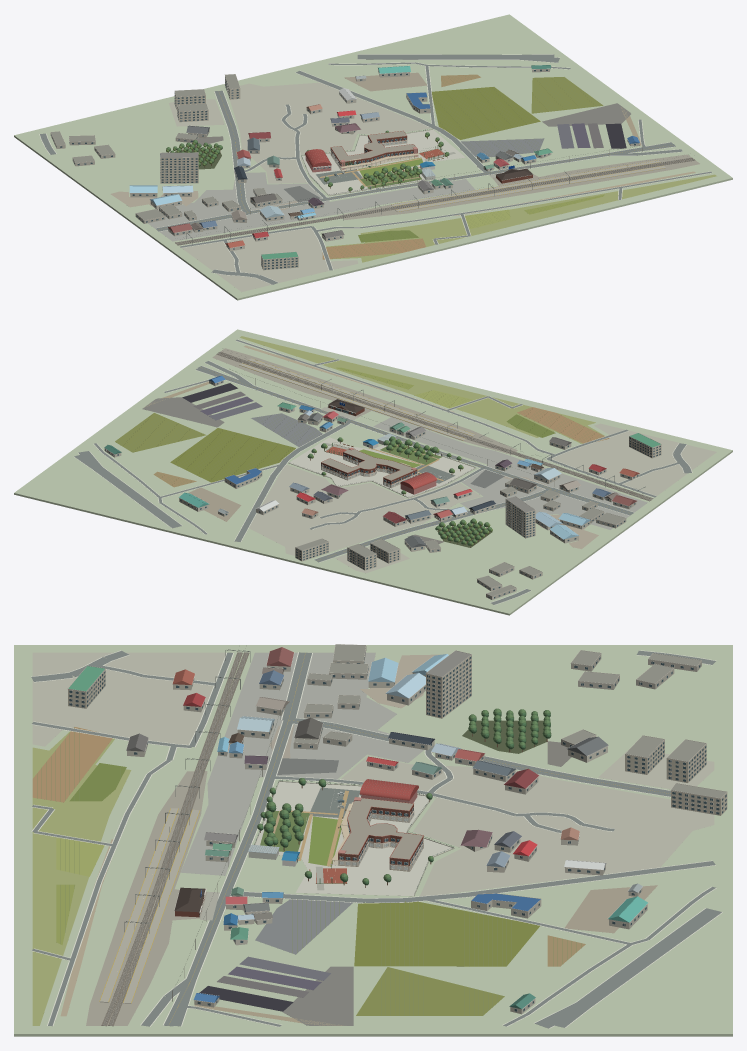
The model's file is dasi-neighborhood.glb.
3 views of the same model, one above another, from view 1: azimuth 30°, elevation 25°; view 2: azimuth 150°, elevation 25°; view 3: azimuth 270°, elevation 25° (orthographic). The views are drawn at different scales.
Visible parts, largest first — view 1: ground_base, parcel_osm_963585648, parcel_osm_963585645, parcel_osm_963585647, parcel_trace_east-field-central, parcel_osm_963585608, parcel_osm_1147618307, ground_floor_campus, parcel_trace_east-field-northeast, parcel_trace_WS06, parcel_trace_east-farm-hardstand, parcel_trace_east-field-covered-rows (+10 smaller); view 2: ground_base, parcel_osm_963585648, parcel_osm_963585647, parcel_osm_963585645, parcel_trace_east-field-central, parcel_osm_963585608, parcel_osm_1147618307, ground_floor_campus, parcel_trace_east-field-northeast, parcel_trace_WS06, parcel_trace_east-field-covered-rows, parcel_trace_east-farm-hardstand (+9 smaller); view 3: ground_base, parcel_osm_963585648, parcel_osm_963585645, parcel_osm_963585647, parcel_trace_east-field-central, parcel_osm_963585608, parcel_osm_1147618307, ground_floor_campus, parcel_trace_east-field-northeast, parcel_trace_WS06, parcel_trace_east-field-covered-rows, parcel_trace_east-farm-hardstand (+33 smaller).
Boxes of the visible parts, left/top/right/bottom form: ground_base: left=14, top=14, right=732, bottom=300; parcel_osm_963585648: left=230, top=82, right=430, bottom=183; parcel_osm_963585645: left=135, top=172, right=475, bottom=241; parcel_osm_963585647: left=182, top=225, right=358, bottom=291; parcel_trace_east-field-central: left=432, top=87, right=540, bottom=139; parcel_osm_963585608: left=326, top=174, right=716, bottom=262; parcel_osm_1147618307: left=338, top=154, right=699, bottom=219; ground_floor_campus: left=302, top=129, right=465, bottom=195; parcel_trace_east-field-northeast: left=531, top=77, right=603, bottom=113; parcel_trace_WS06: left=322, top=238, right=425, bottom=259; parcel_trace_east-farm-hardstand: left=542, top=103, right=630, bottom=126; parcel_trace_east-field-covered-rows: left=461, top=138, right=544, bottom=156; ground_base: left=14, top=329, right=732, bottom=615; parcel_osm_963585648: left=249, top=464, right=481, bottom=555; parcel_osm_963585647: left=547, top=423, right=716, bottom=495; parcel_osm_963585645: left=373, top=417, right=647, bottom=529; parcel_trace_east-field-central: left=170, top=428, right=295, bottom=482; parcel_osm_963585608: left=240, top=336, right=604, bottom=443; parcel_osm_1147618307: left=212, top=348, right=517, bottom=454; ground_floor_campus: left=289, top=437, right=474, bottom=497; parcel_trace_east-field-northeast: left=115, top=413, right=206, bottom=452; parcel_trace_WS06: left=517, top=407, right=609, bottom=443; parcel_trace_east-field-covered-rows: left=251, top=413, right=322, bottom=446; parcel_trace_east-farm-hardstand: left=142, top=397, right=224, bottom=427; ground_base: left=14, top=645, right=732, bottom=1036; parcel_osm_963585648: left=336, top=755, right=714, bottom=896; parcel_osm_963585645: left=180, top=652, right=423, bottom=875; parcel_osm_963585647: left=32, top=652, right=225, bottom=746; parcel_trace_east-field-central: left=354, top=901, right=539, bottom=966; parcel_osm_963585608: left=32, top=731, right=131, bottom=1025; parcel_osm_1147618307: left=86, top=771, right=207, bottom=1025; ground_floor_campus: left=255, top=782, right=452, bottom=896; parcel_trace_east-field-northeast: left=356, top=967, right=504, bottom=1015; parcel_trace_WS06: left=32, top=727, right=112, bottom=802; parcel_trace_east-field-covered-rows: left=255, top=899, right=352, bottom=954; parcel_trace_east-farm-hardstand: left=282, top=966, right=353, bottom=1025.
Size of what is drawn, in the model's own units: 594 by 31.78 by 464.
Materials: 260 (1 with a texture image).
